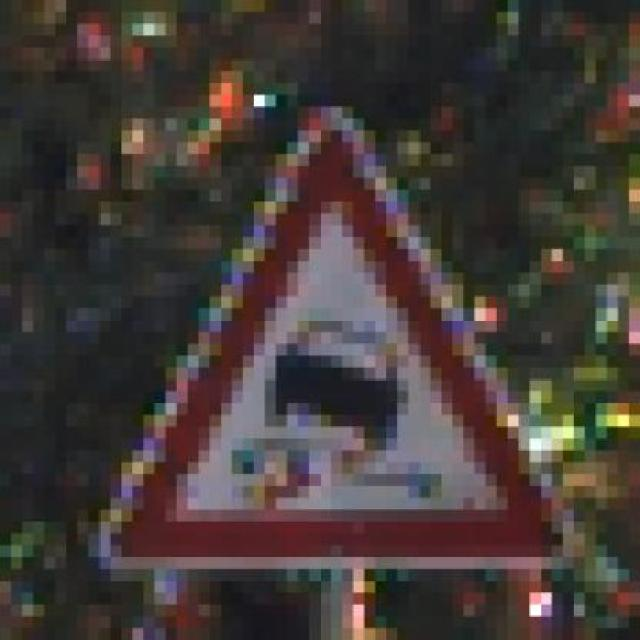Slippery Road Ahead: (77, 94, 574, 568)
